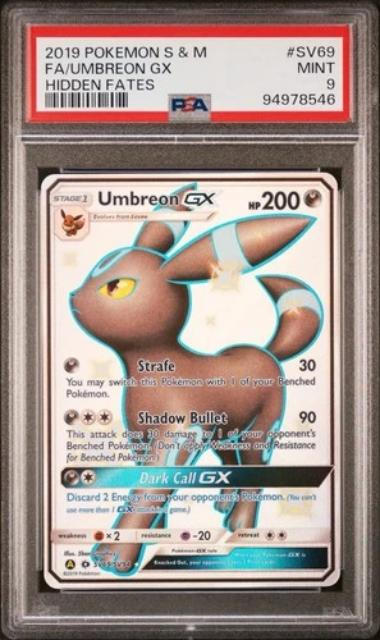Card: (37, 168, 344, 592)
Name: (95, 182, 219, 211)
